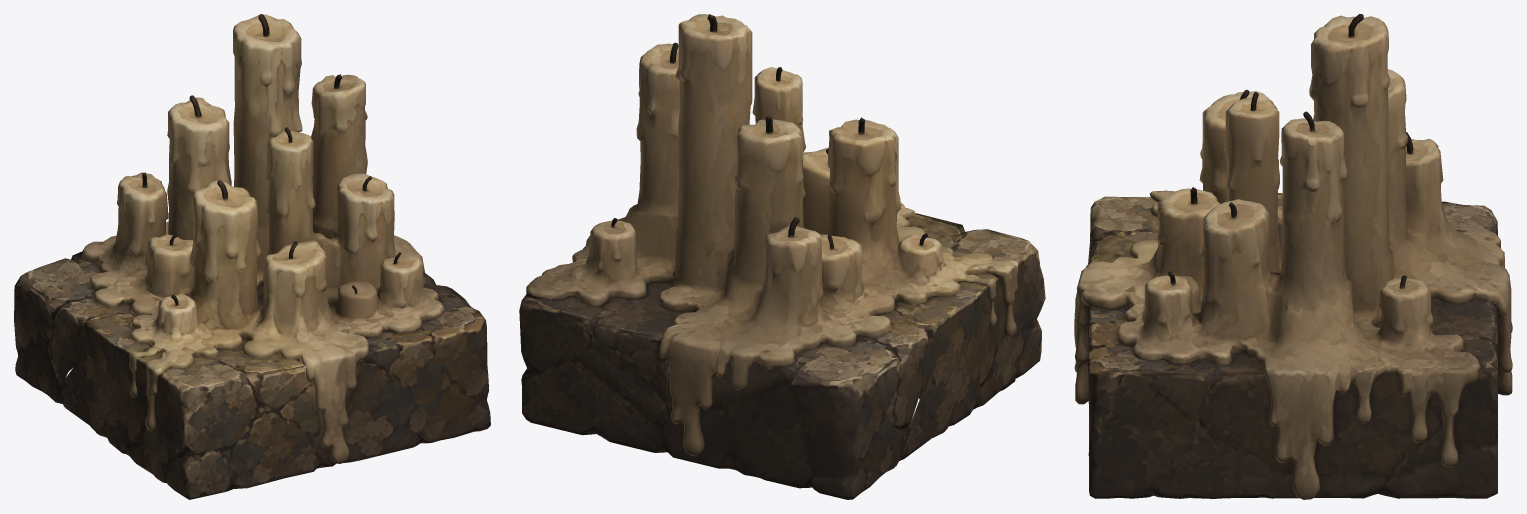
The model's file is dungeon_candle_cluster.glb.
The picture shows the model from 3 angles, left to right: view 1: azimuth 30°, elevation 25°; view 2: azimuth 150°, elevation 25°; view 3: azimuth 270°, elevation 25°; orthographic projection. The views are drawn at different scales.
Visible parts, largest first — view 1: tripo_2934ab55_8bf3_44f9_9718_402742ad8675; view 2: tripo_2934ab55_8bf3_44f9_9718_402742ad8675; view 3: tripo_2934ab55_8bf3_44f9_9718_402742ad8675.
Boxes of the visible parts, bbox=[...] form: tripo_2934ab55_8bf3_44f9_9718_402742ad8675: bbox=[14, 14, 490, 499]; tripo_2934ab55_8bf3_44f9_9718_402742ad8675: bbox=[519, 14, 1045, 499]; tripo_2934ab55_8bf3_44f9_9718_402742ad8675: bbox=[1074, 14, 1512, 499].
Bounding box in the file's own units: 0.9595 × 0.9995 × 0.9478.
1 material, 1 textured.
